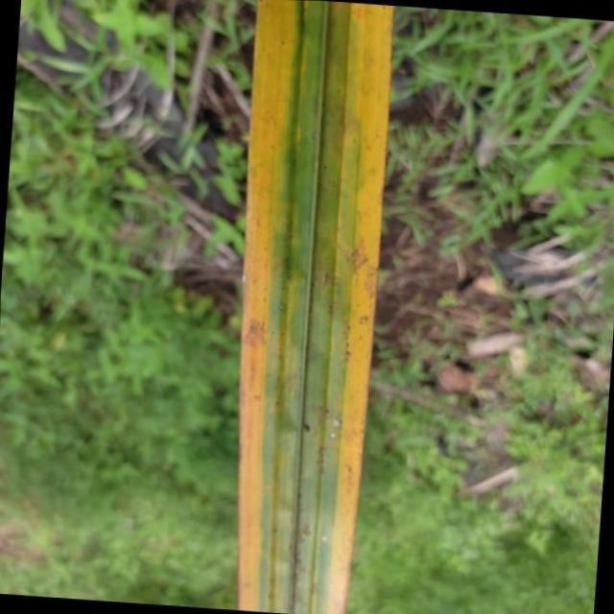Megnesium: (240, 0, 392, 614)
